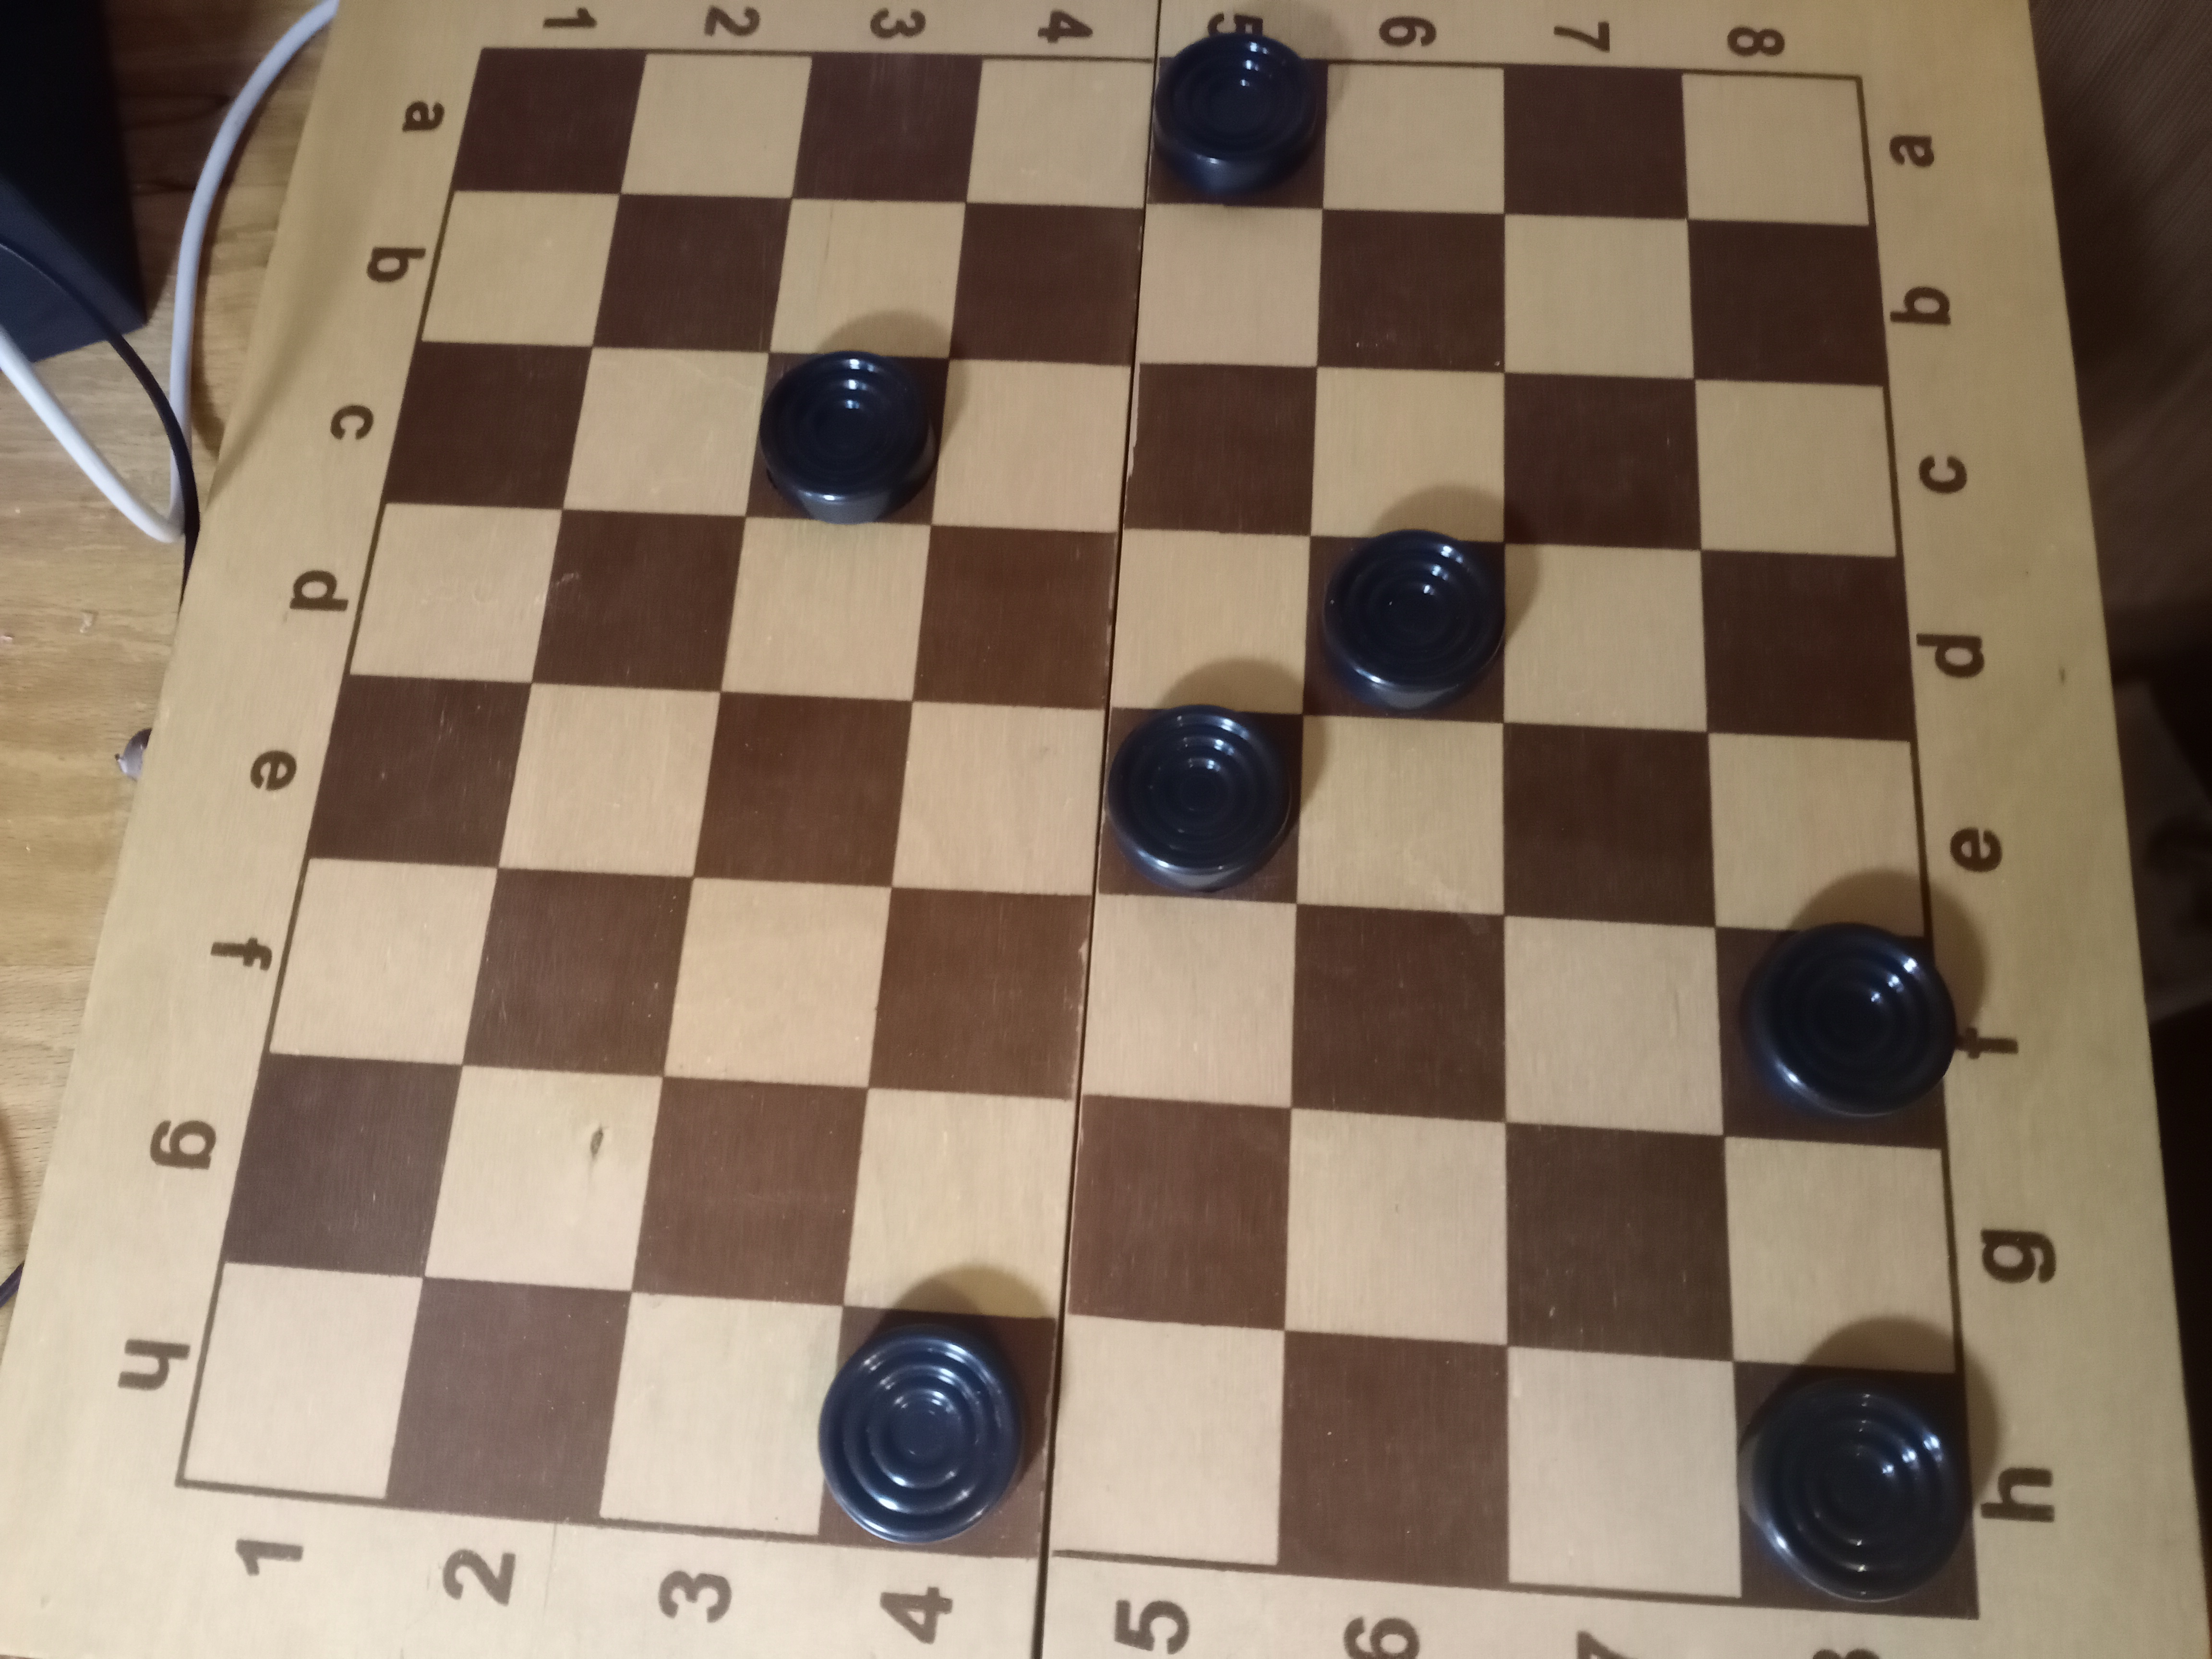Black_Draught: (1731, 1364, 1980, 1619), (819, 1305, 1057, 1565), (1710, 922, 1958, 1152), (1097, 706, 1303, 904), (1301, 530, 1507, 725), (744, 350, 949, 528), (1144, 33, 1329, 207)
